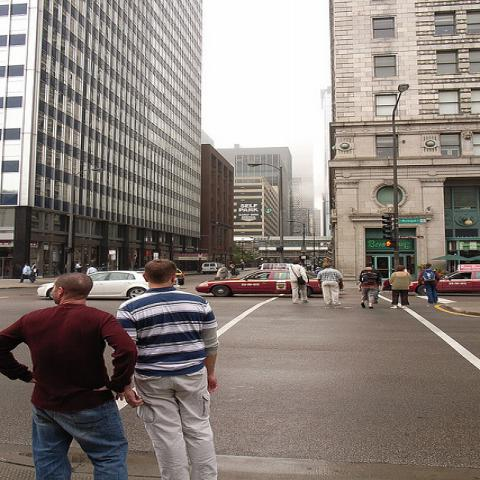car: (37, 270, 181, 300), (197, 269, 323, 296), (407, 271, 479, 297), (201, 262, 225, 274), (176, 269, 184, 285)
